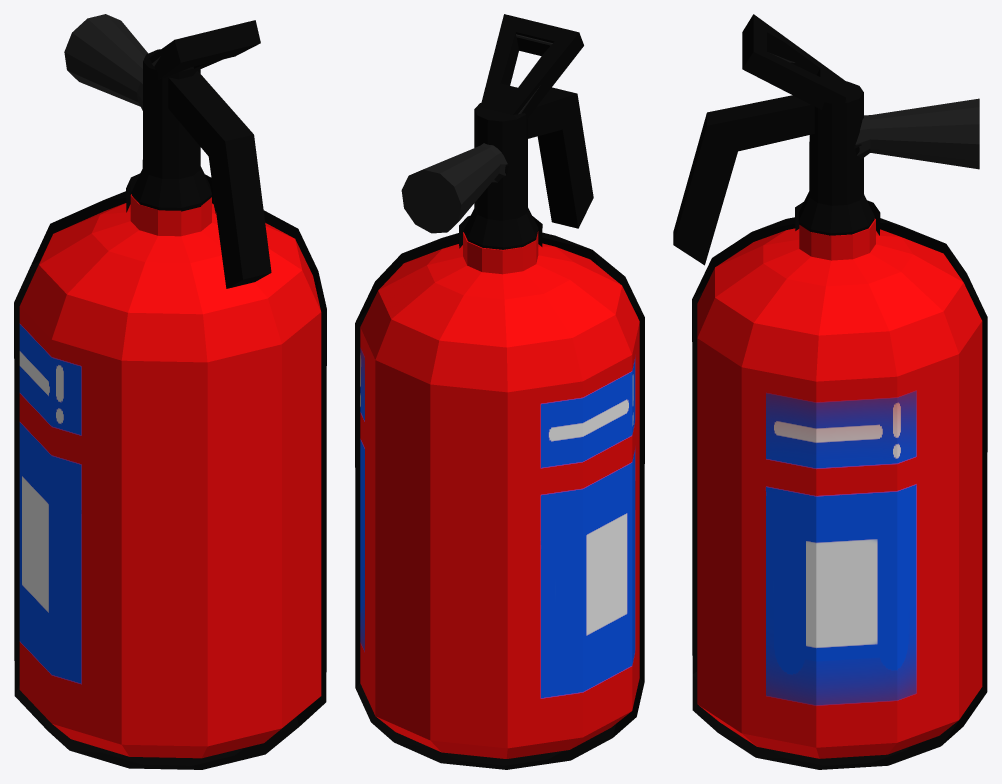
The model's file is FireExtinguisher.fbx.
The picture shows the model from 3 angles, left to right: view 1: azimuth 30°, elevation 25°; view 2: azimuth 150°, elevation 25°; view 3: azimuth 270°, elevation 25°; orthographic projection. The views are drawn at different scales.
Visible parts, largest first — view 1: Extintor, Empunhadura; view 2: Extintor, Empunhadura; view 3: Extintor, Empunhadura.
Boxes of the visible parts, left/top/right/bottom form: Extintor: left=14, top=173, right=326, bottom=769; Empunhadura: left=64, top=14, right=271, bottom=288; Extintor: left=355, top=215, right=644, bottom=769; Empunhadura: left=401, top=14, right=593, bottom=249; Extintor: left=692, top=200, right=987, bottom=769; Empunhadura: left=673, top=14, right=979, bottom=265.
Size of the model in its own units: 205 by 530 by 216.
3 materials, 1 textured.
